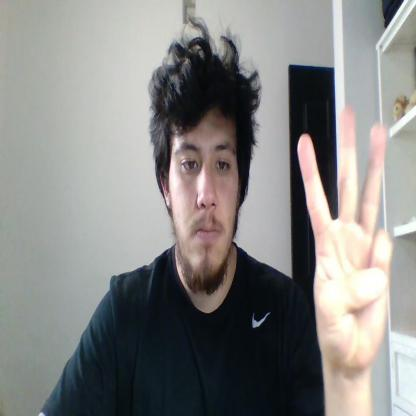W: (297, 106, 392, 374)
